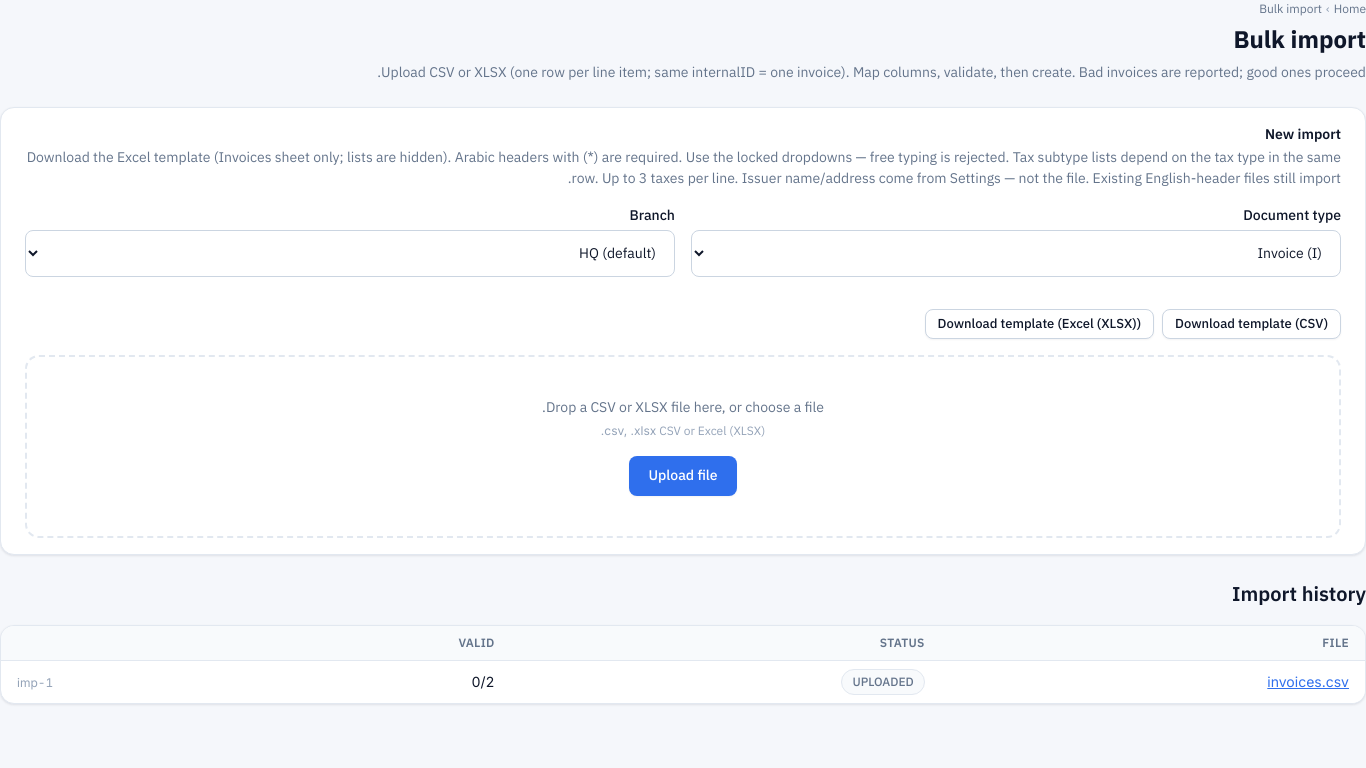
Test: imports page › blocks validate when required fields are unmapped
The image size is (1366, 768).
Step 1. Click the button "invoices.csv" → (1308, 682), box 1267,671 -> 1349,693
(page scrolled)
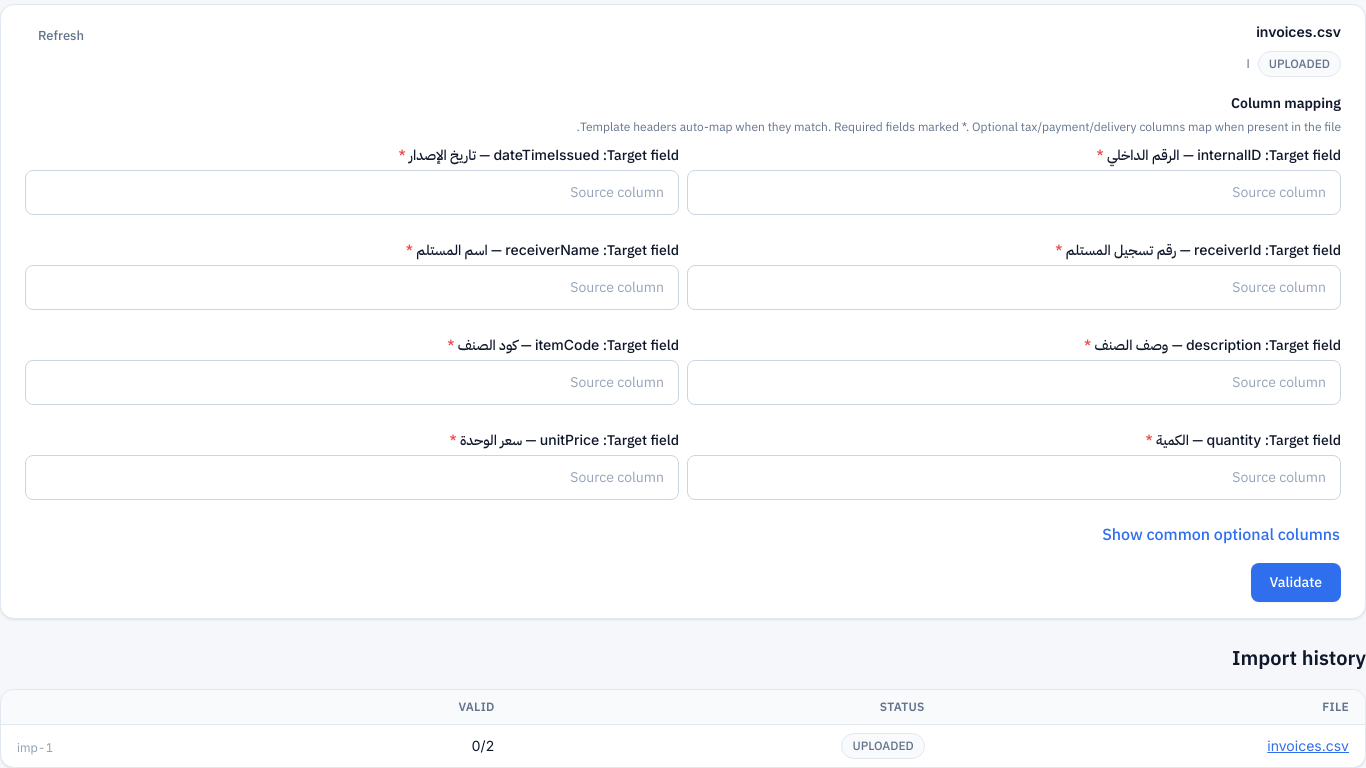
Step 2. Click the button "Validate" → (1296, 583), box 1250,563 -> 1341,602
(page scrolled)
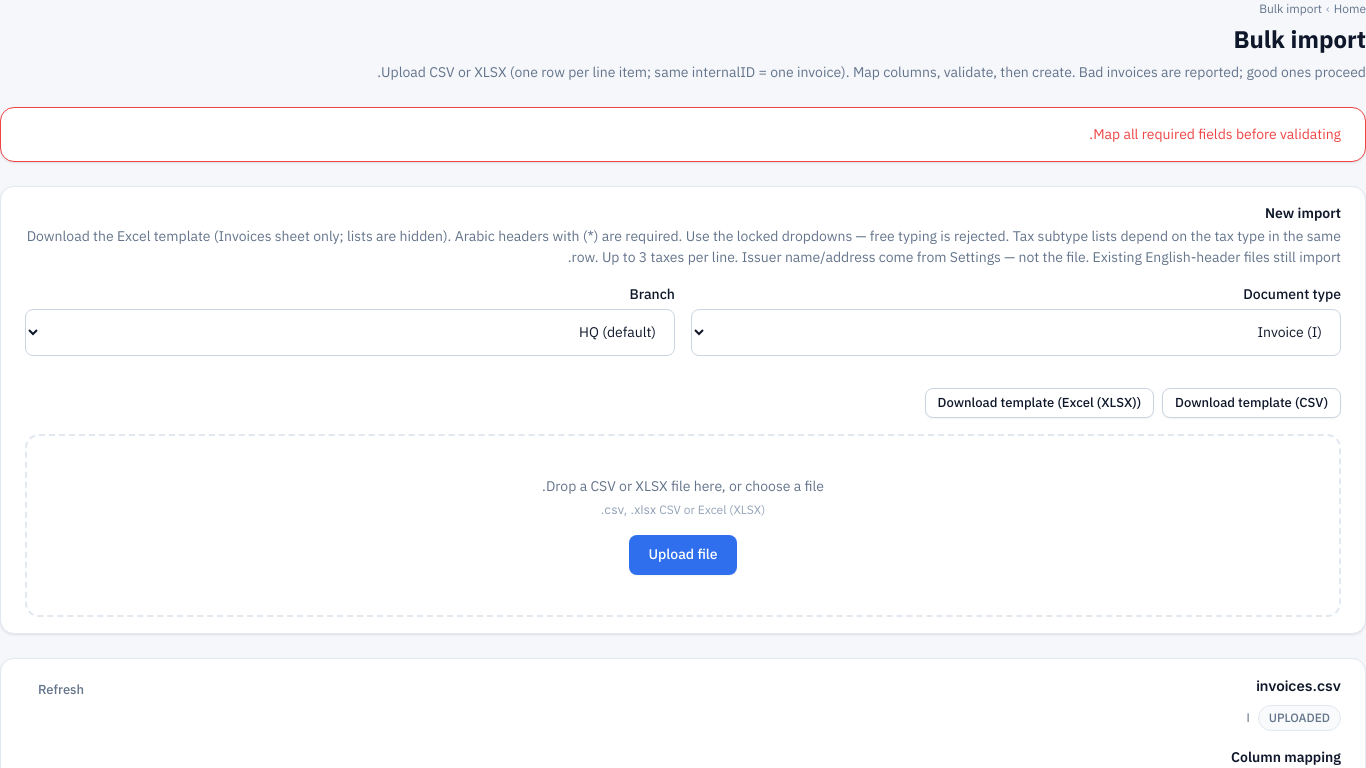
Expected: the message reads "Map all required fields before validating.", 1089,124 -> 1341,145
